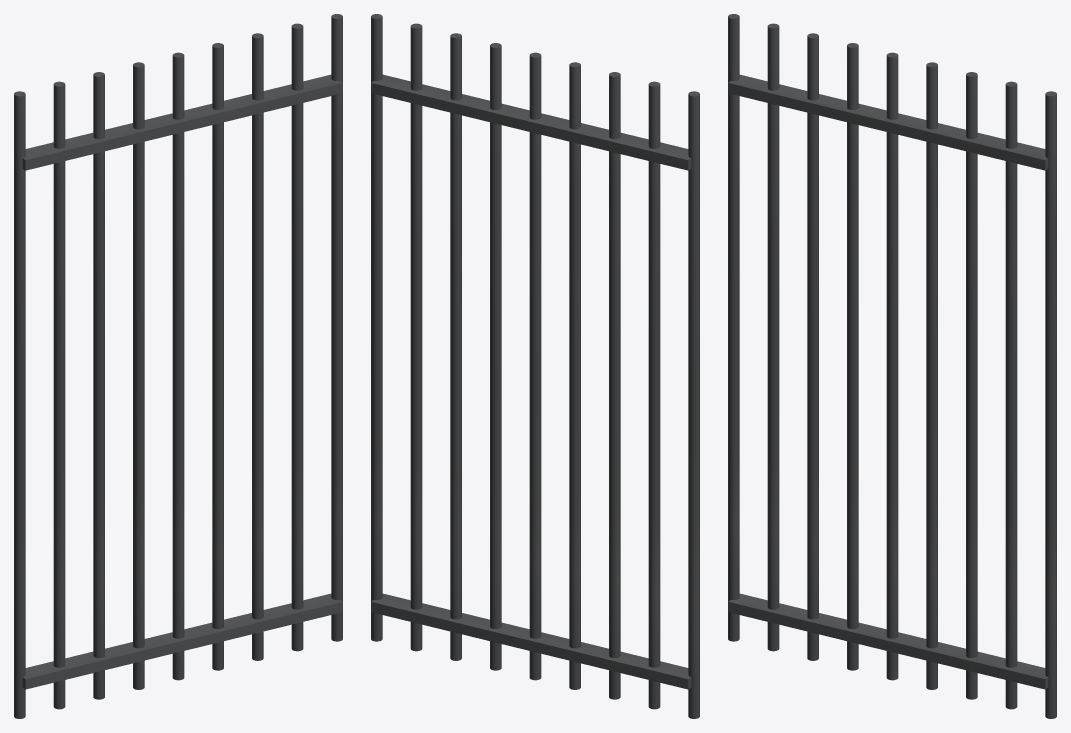
Rendered from metal_fence.obj.
3 renders of one model, left to right at view 1: azimuth 30°, elevation 25°; view 2: azimuth 150°, elevation 25°; view 3: azimuth 330°, elevation 25°, orthographic.
Parts seen in each view (by area): view 1: cylinder, cube; view 2: cylinder, cube; view 3: cylinder, cube.
Part boxes in pixels (x1,y1,x2,y2): cylinder: (14, 14, 342, 718); cube: (22, 74, 342, 689); cylinder: (371, 14, 699, 718); cube: (371, 74, 691, 689); cylinder: (728, 14, 1056, 718); cube: (728, 74, 1048, 689).
Size of the model in its own units: 1.03 by 1.88 by 0.0625.
1 material, 1 textured.
